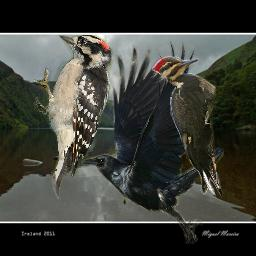Crow: (81, 39, 224, 245)
Woodpecker: (34, 35, 115, 199), (152, 56, 224, 198)
